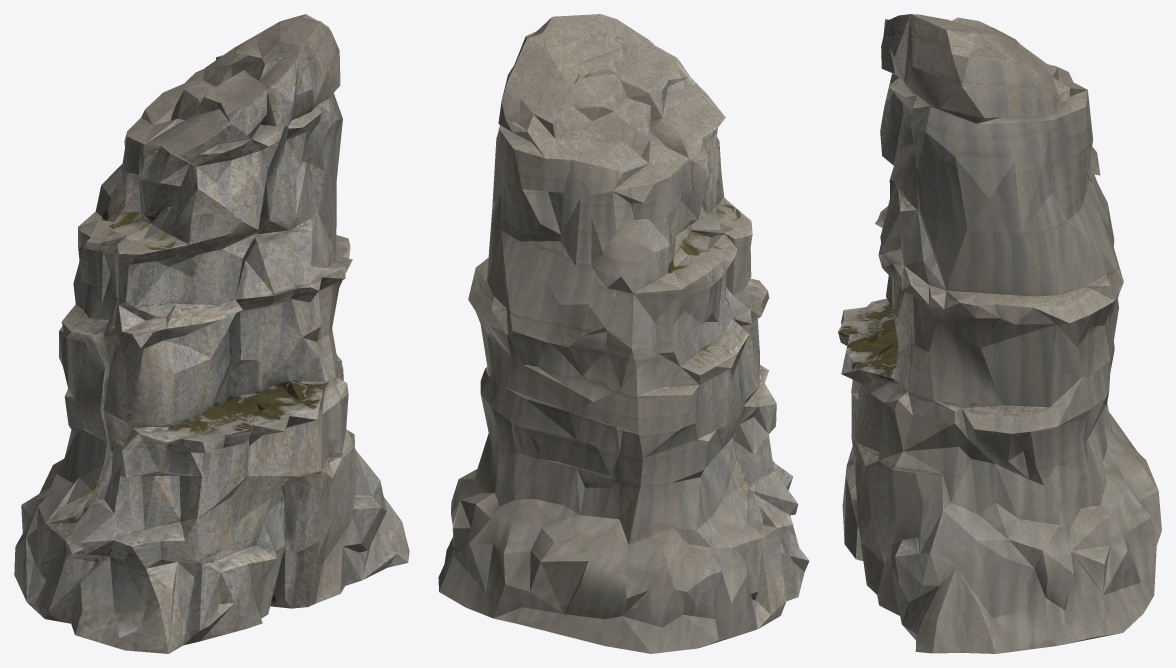
The model's file is ea_limestone_outcrop.glb.
The picture shows the model from 3 angles, left to right: view 1: azimuth 30°, elevation 25°; view 2: azimuth 150°, elevation 25°; view 3: azimuth 270°, elevation 25°; orthographic projection. The views are drawn at different scales.
Parts seen in each view (by area): view 1: output_unwrapped; view 2: output_unwrapped; view 3: output_unwrapped.
Part boxes in pixels (bbox=[...]): output_unwrapped: bbox=[14, 14, 409, 653]; output_unwrapped: bbox=[438, 14, 809, 653]; output_unwrapped: bbox=[838, 14, 1161, 653].
Size of the model in its own units: 1.23 by 1.89 by 0.9506.
Materials: 1 (1 with a texture image).
